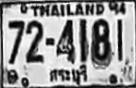1: (78, 18, 86, 60), (117, 18, 123, 60)
2: (25, 20, 45, 63)
4: (55, 18, 75, 62)
7: (8, 20, 24, 63)
8: (90, 18, 110, 59)
SRI: (46, 63, 90, 86)
